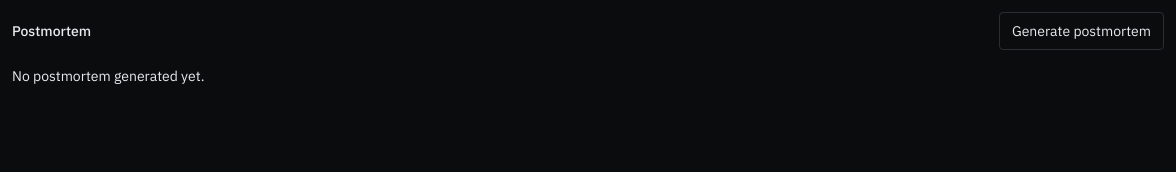
Test: PostmortemPanel › shows the rate-limit message, with the Retry-After value, on a 429 from generatePostmortem
The width and height of the screenshot is (1176, 172).
Expected: the text "No postmortem generated yet." is shown, [12,67,204,85]
Click the button "Generate postmortem".
click(1081, 31)  # box [999,12,1164,50]
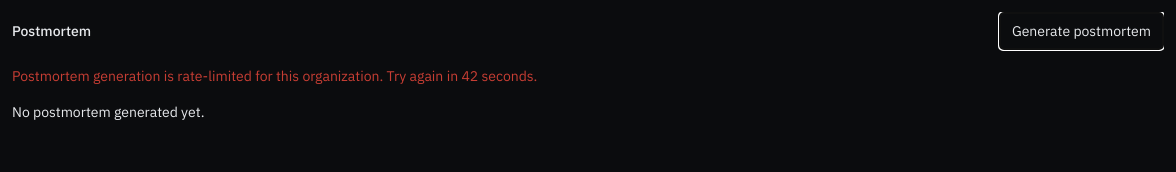
Now the text "Try again" is shown, box [12,67,537,85]
